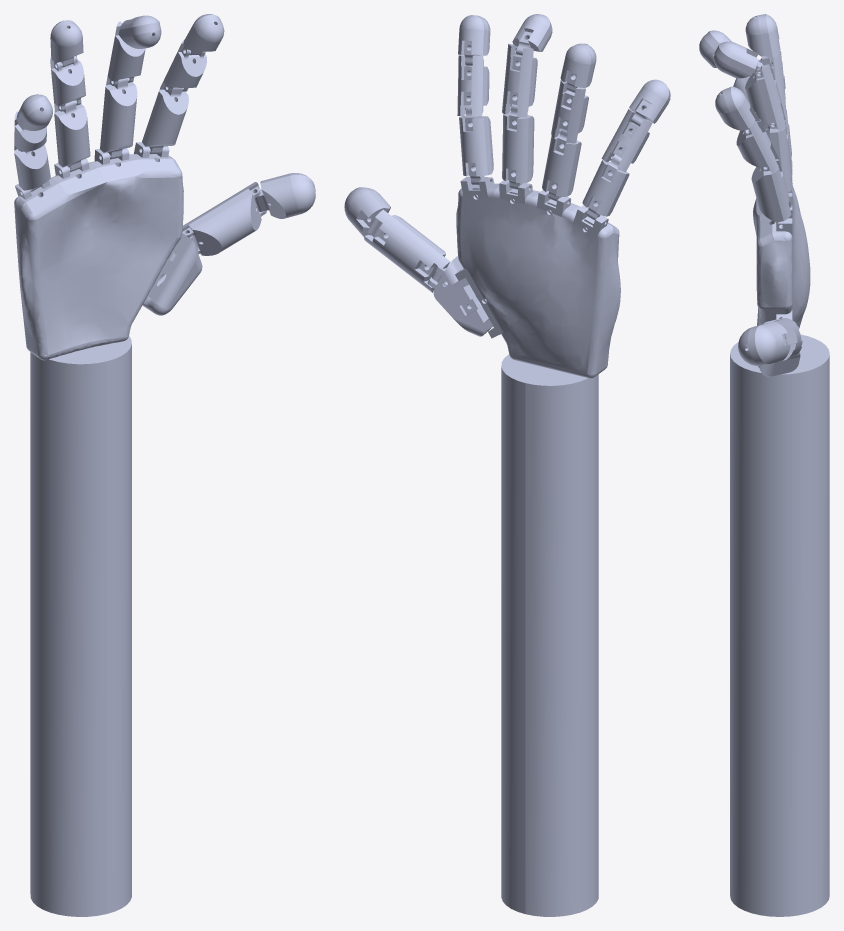
Rendered from result-transformed.glb.
3 views of the same model, side by side, from view 1: azimuth 30°, elevation 25°; view 2: azimuth 150°, elevation 25°; view 3: azimuth 270°, elevation 25° (orthographic). The views are drawn at different scales.
Parts seen in each view (by area): view 1: nodes[0]; view 2: nodes[0]; view 3: nodes[0].
Part boxes in pixels (x1,y1,x2,y2): nodes[0]: (14,14,315,916); nodes[0]: (344,14,670,916); nodes[0]: (699,14,829,916).
Bounding box in the file's own units: 178 × 482 × 65.44.
